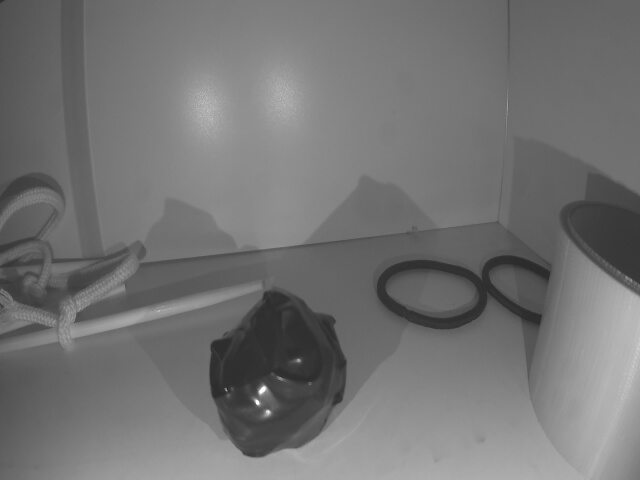Dead: (206, 286, 348, 449)
